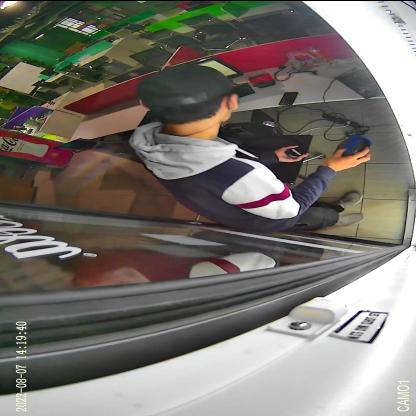blue: (334, 133, 372, 159)
